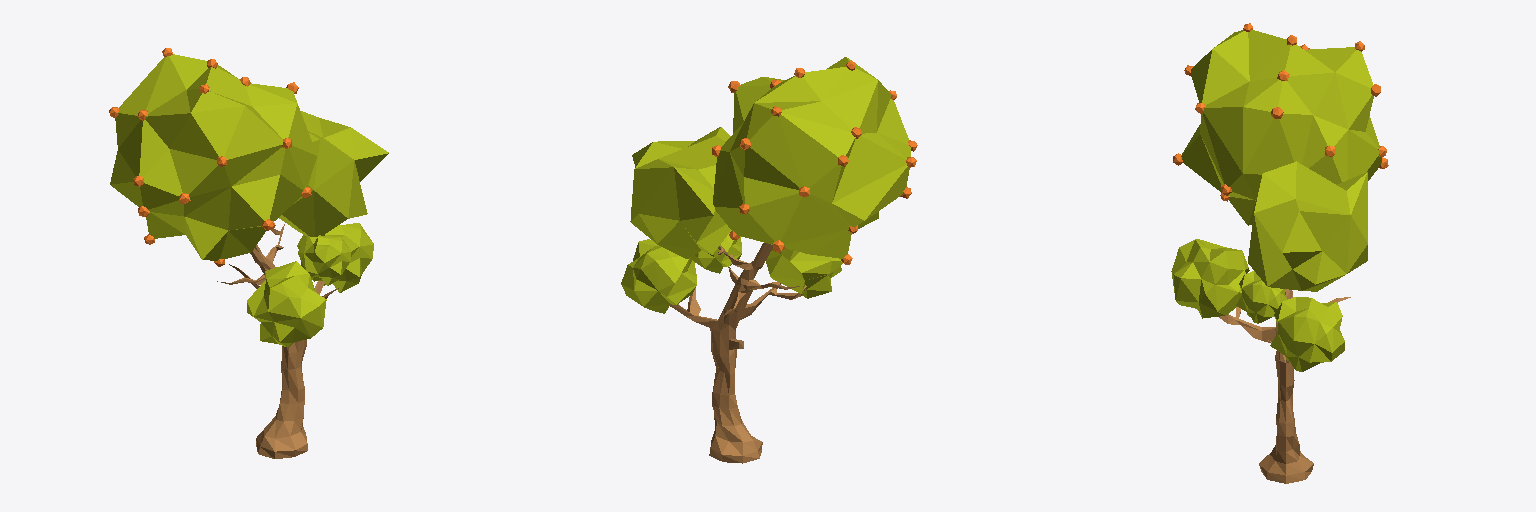
The model's file is tree4.obj.
The picture shows the model from 3 angles: view 1: azimuth 30°, elevation 25°; view 2: azimuth 150°, elevation 25°; view 3: azimuth 270°, elevation 25°; orthographic projection.
Visible parts, largest first — view 1: Leaves_3, Leaves_4, Leaves, Trunk, Leaves_1, Leaves_2, Fruits; view 2: Leaves_3, Leaves_4, Trunk, Leaves_2, Leaves, Fruits, Leaves_1; view 3: Leaves_3, Leaves_4, Leaves, Leaves_2, Trunk, Leaves_1, Fruits.
Part boxes in pixels (x1,y1,x2,y2): Leaves_3: (110, 54, 316, 260); Leaves_4: (279, 111, 388, 236); Leaves: (247, 261, 326, 347); Trunk: (217, 222, 338, 458); Leaves_1: (298, 235, 350, 285); Leaves_2: (297, 223, 373, 292); Fruits: (109, 48, 311, 266); Leaves_3: (713, 57, 910, 258); Leaves_4: (630, 127, 730, 258); Trunk: (670, 243, 806, 463); Leaves_2: (621, 239, 696, 313); Leaves: (766, 248, 842, 298); Fruits: (712, 61, 917, 264); Leaves_1: (692, 230, 741, 273); Leaves_3: (1181, 30, 1381, 225); Leaves_4: (1248, 161, 1367, 291); Leaves: (1171, 239, 1249, 318); Leaves_2: (1270, 297, 1344, 371); Trunk: (1219, 289, 1350, 483); Leaves_1: (1236, 271, 1287, 323); Fruits: (1173, 23, 1388, 201).
Size of the model in its own units: 253 by 361 by 176.